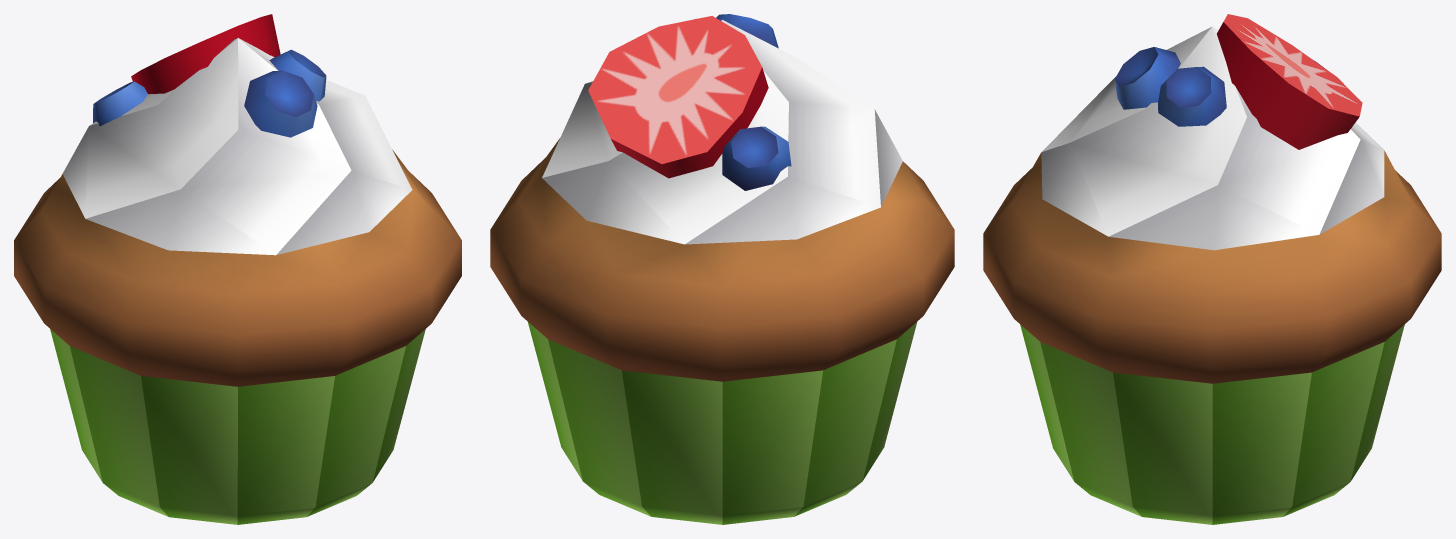
The model's file is m_Cupcake14.fbx.
3 renders of one model, left to right at view 1: azimuth 30°, elevation 25°; view 2: azimuth 150°, elevation 25°; view 3: azimuth 270°, elevation 25°, orthographic. The views are drawn at different scales.
Parts seen in each view (by area): view 1: m_Cupcake14; view 2: m_Cupcake14; view 3: m_Cupcake14.
Part boxes in pixels (bbox=[...]): m_Cupcake14: bbox=[14, 14, 461, 524]; m_Cupcake14: bbox=[490, 14, 954, 524]; m_Cupcake14: bbox=[983, 14, 1441, 524].
Bounding box in the file's own units: 11.39 × 12.22 × 11.39.
